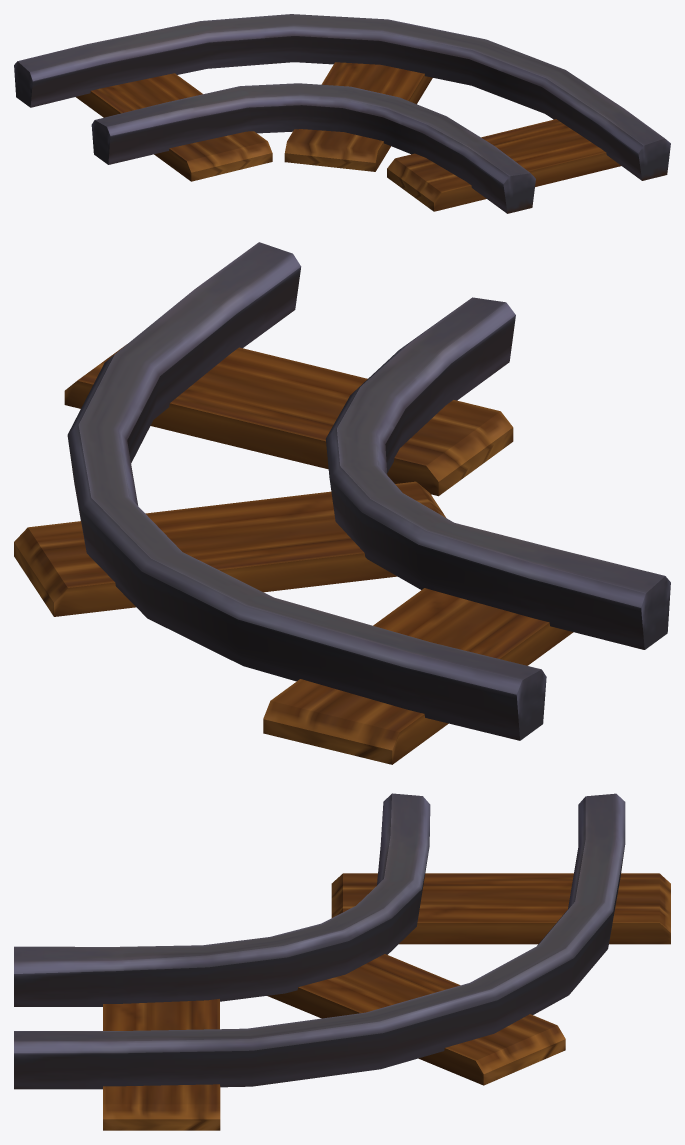
Rendered from rock_06.fbx.
The picture shows the model from 3 angles, top to bottom: view 1: azimuth 30°, elevation 25°; view 2: azimuth 150°, elevation 25°; view 3: azimuth 270°, elevation 25°; orthographic projection. The views are drawn at different scales.
Visible parts, largest first — view 1: rock_06; view 2: rock_06; view 3: rock_06.
Part boxes in pixels (x1,y1,x2,y2): rock_06: (14,14,670,213); rock_06: (14,242,670,764); rock_06: (14,793,670,1130).
Size of the model in its own units: 2.19 by 0.2424 by 2.23.
